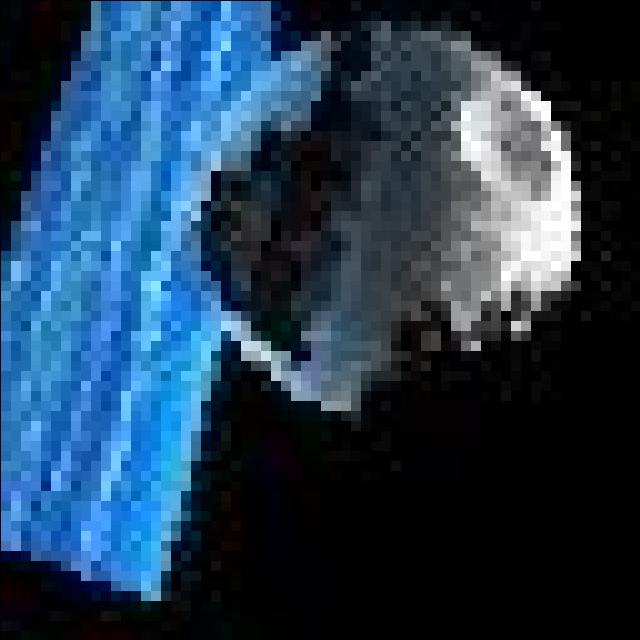Death Star: (216, 25, 572, 416)
